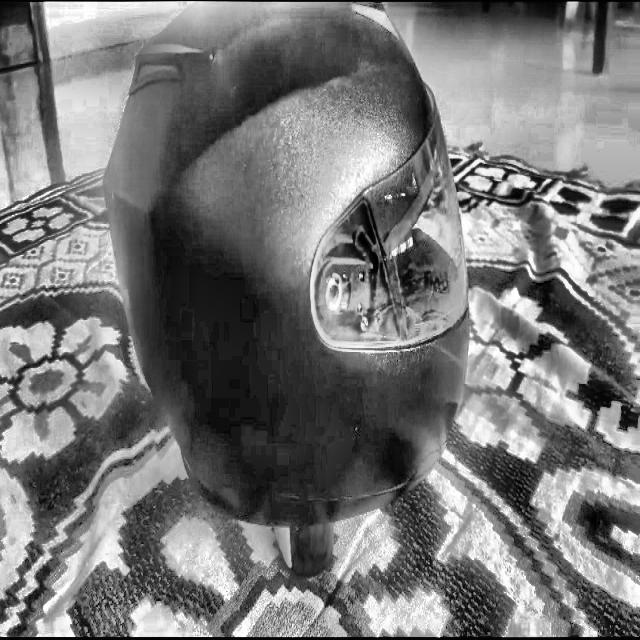Helmet: (99, 0, 473, 523)
